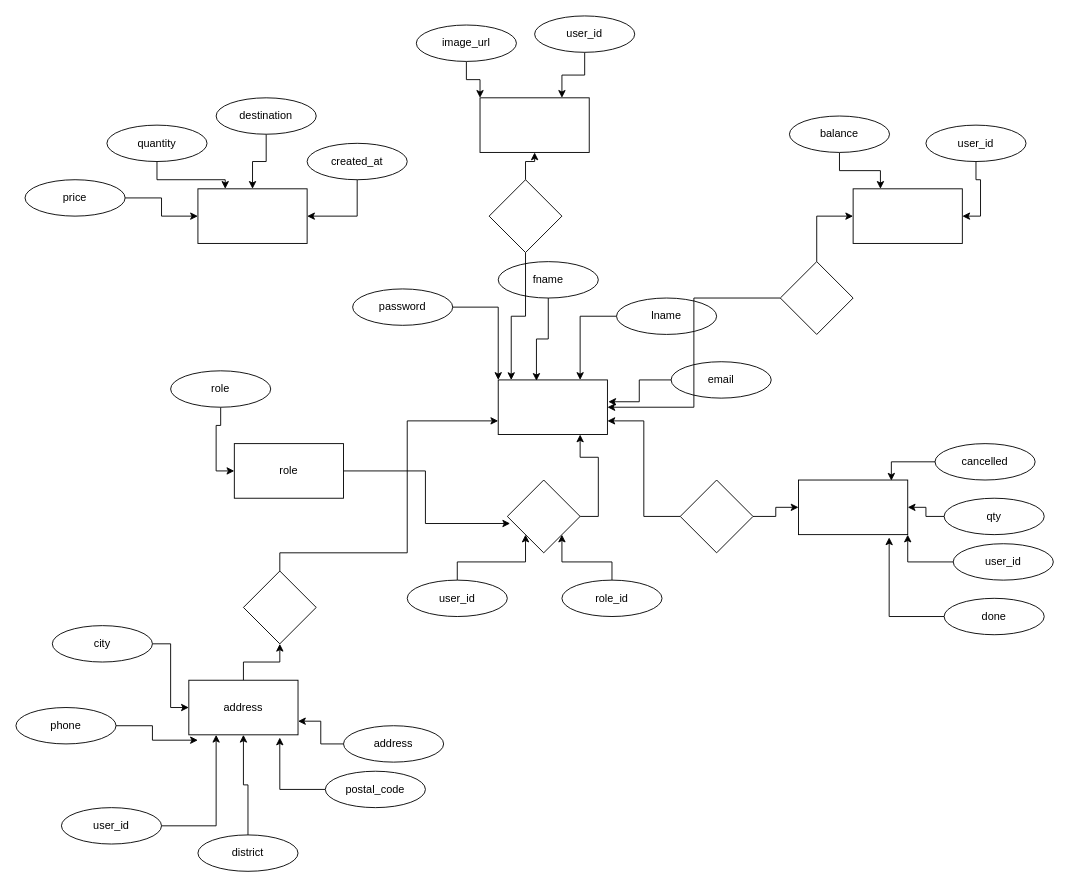
Image size: 1069x887. Some labels were removed from this diagram. Each missing label, with the box of its shape:
history: (798, 479, 908, 535)
images: (479, 97, 589, 152)
tickets: (197, 188, 307, 243)
user_role: (506, 479, 580, 553)
users: (497, 379, 607, 435)
wallet: (852, 188, 962, 243)
